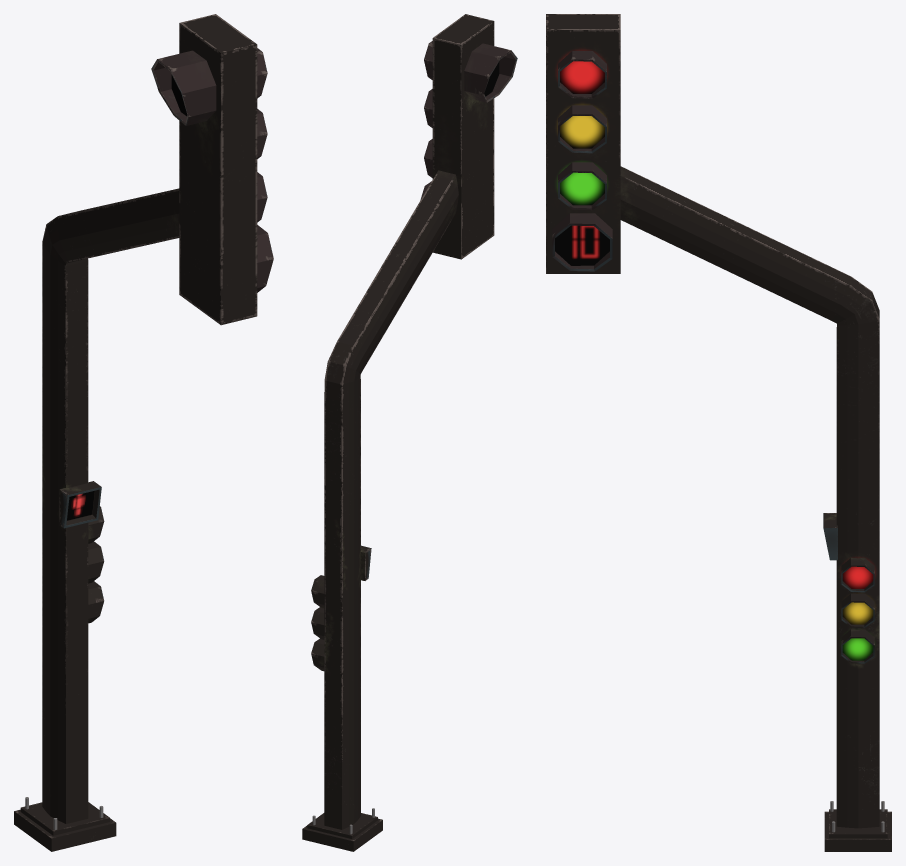
Rendered from TrafficLight_Upgrade_02.fbx.
3 renders of one model, left to right at view 1: azimuth 30°, elevation 25°; view 2: azimuth 150°, elevation 25°; view 3: azimuth 270°, elevation 25°, orthographic. The views are drawn at different scales.
Visible parts, largest first — view 1: Low.001; view 2: Low.001; view 3: Low.001.
Boxes of the visible parts, x1,y1,x2,y2 form: Low.001: (14,14,273,851); Low.001: (302,14,517,851); Low.001: (546,14,891,851).
Size of the model in its own units: 15.08 by 135 by 51.72.
